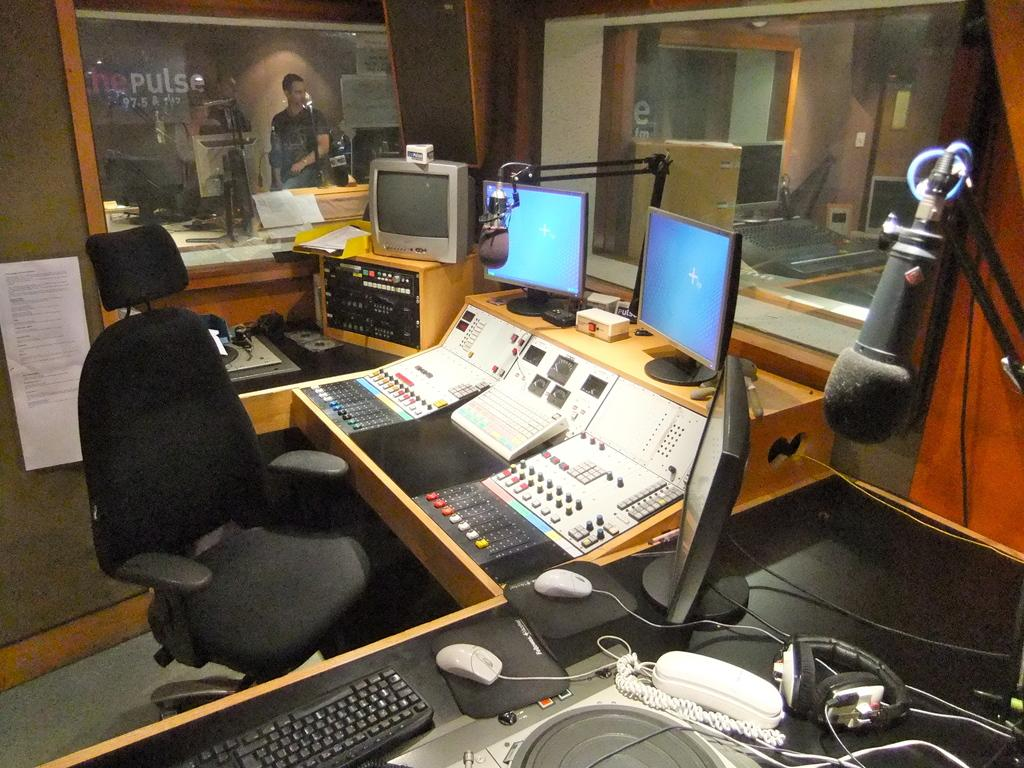Computer-keyboard: (172, 668, 436, 767)
Computer-monitor: (659, 344, 772, 625), (641, 201, 745, 378), (473, 165, 593, 309), (193, 125, 276, 214)
